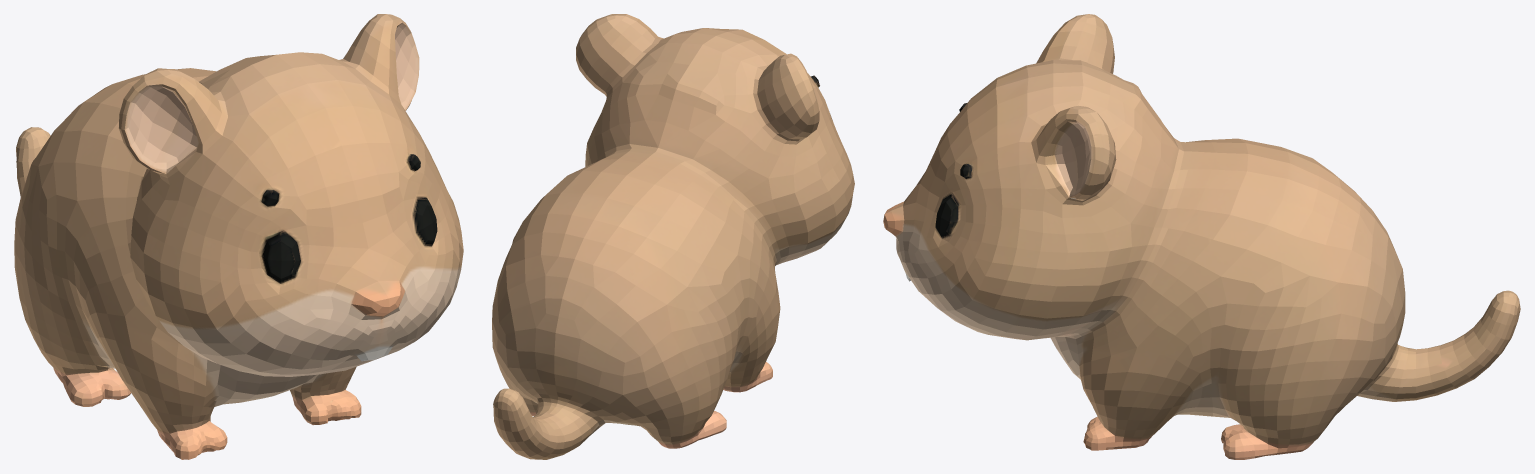
Rendered from hamster.glb.
3 renders of one model, left to right at view 1: azimuth 30°, elevation 25°; view 2: azimuth 150°, elevation 25°; view 3: azimuth 270°, elevation 25°, orthographic. The views are drawn at different scales.
Parts seen in each view (by area): view 1: Hamster; view 2: Hamster; view 3: Hamster.
Boxes of the visible parts, bbox=[...] form: Hamster: bbox=[14, 14, 463, 459]; Hamster: bbox=[492, 14, 854, 459]; Hamster: bbox=[883, 14, 1520, 459].
Size of the model in its own units: 0.9039 by 1.15 by 1.91.
1 material, 1 textured.
